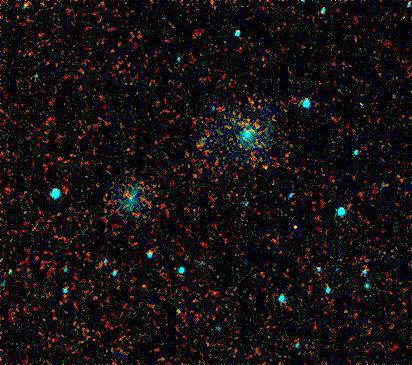star: (282, 215, 312, 245)
